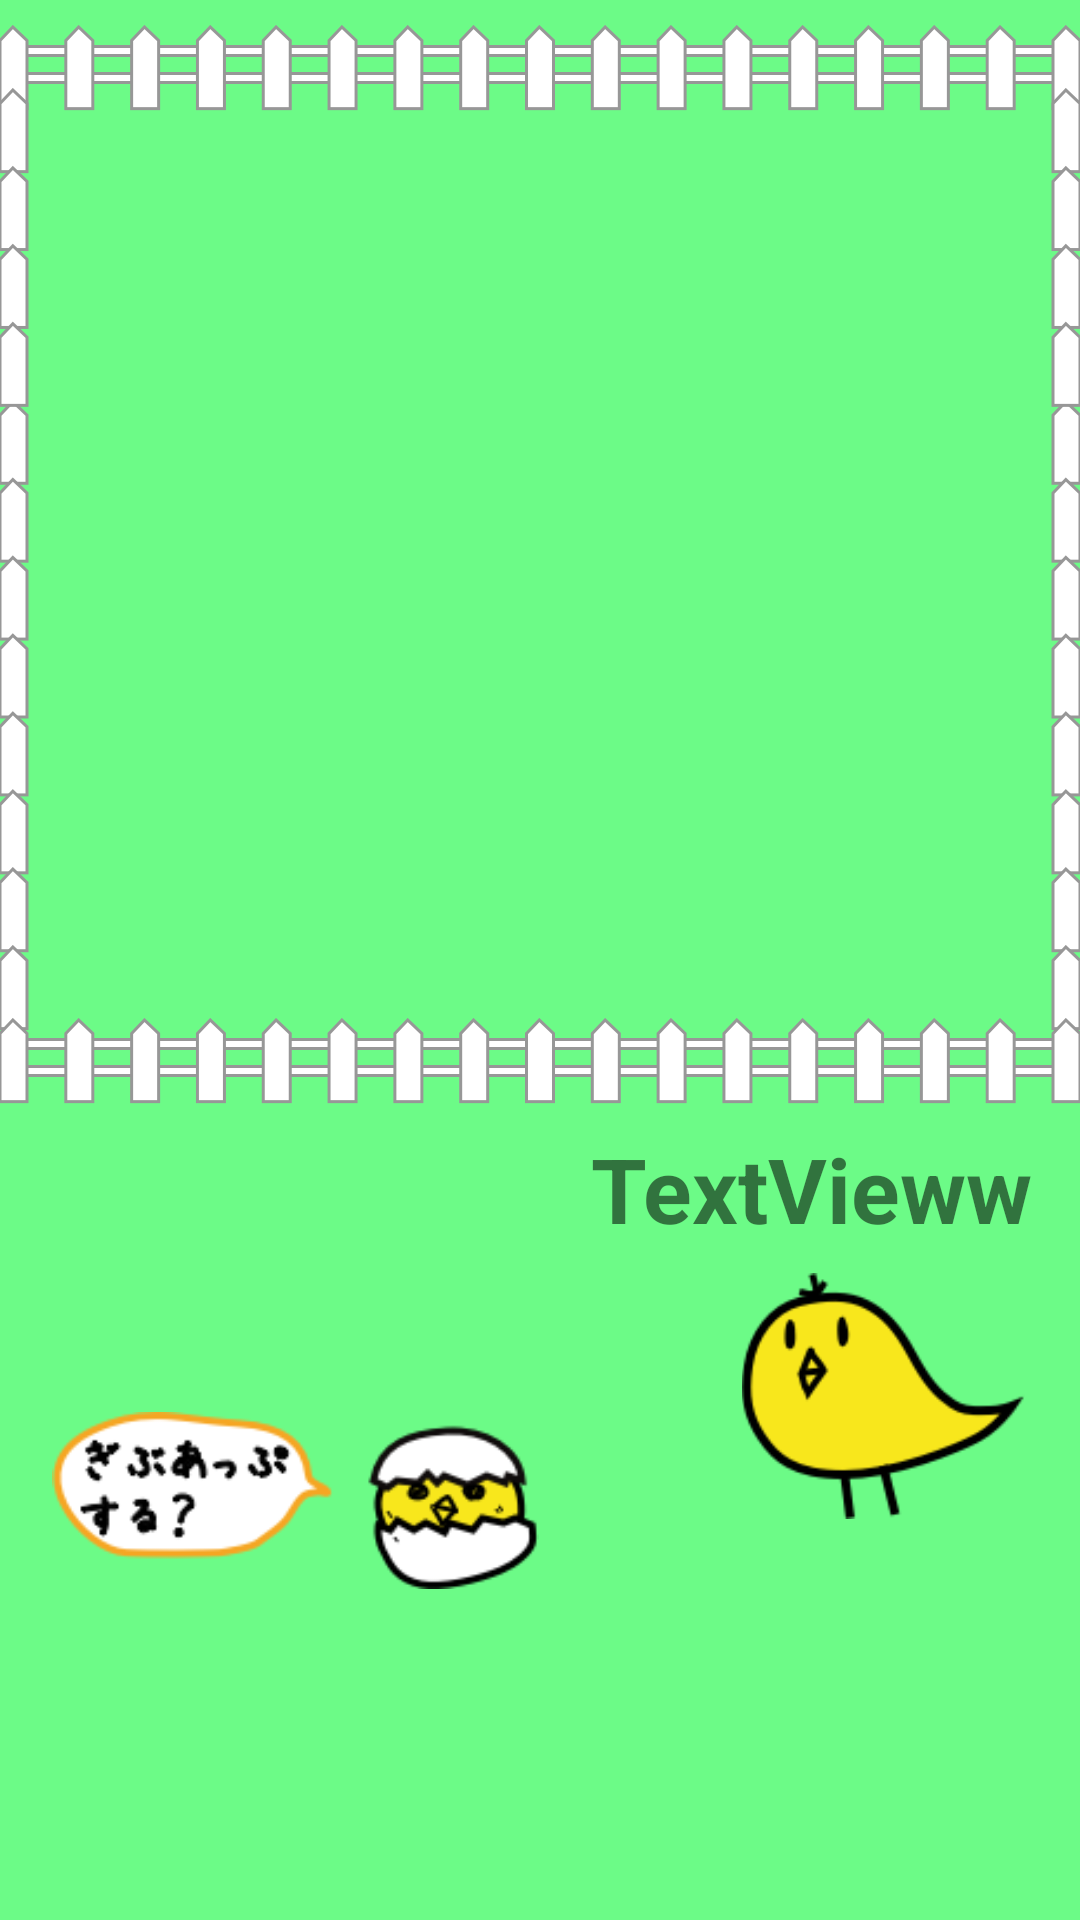

Where icons sit on this 1080*1920 app screen, as BBox(x1, y1, x2, y2):
piyo: BBox(742, 1273, 1024, 1519)
